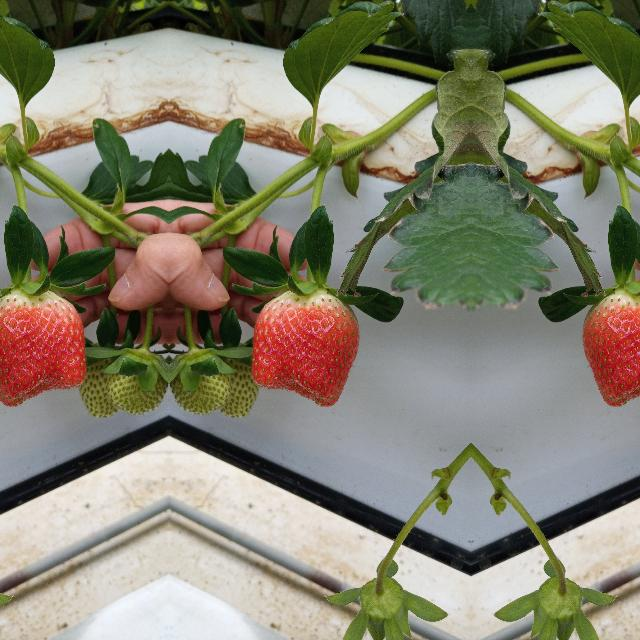Health_100: (250, 286, 358, 408), (0, 286, 86, 407), (582, 286, 640, 407)
Health_25: (168, 340, 252, 424), (84, 340, 168, 424)
